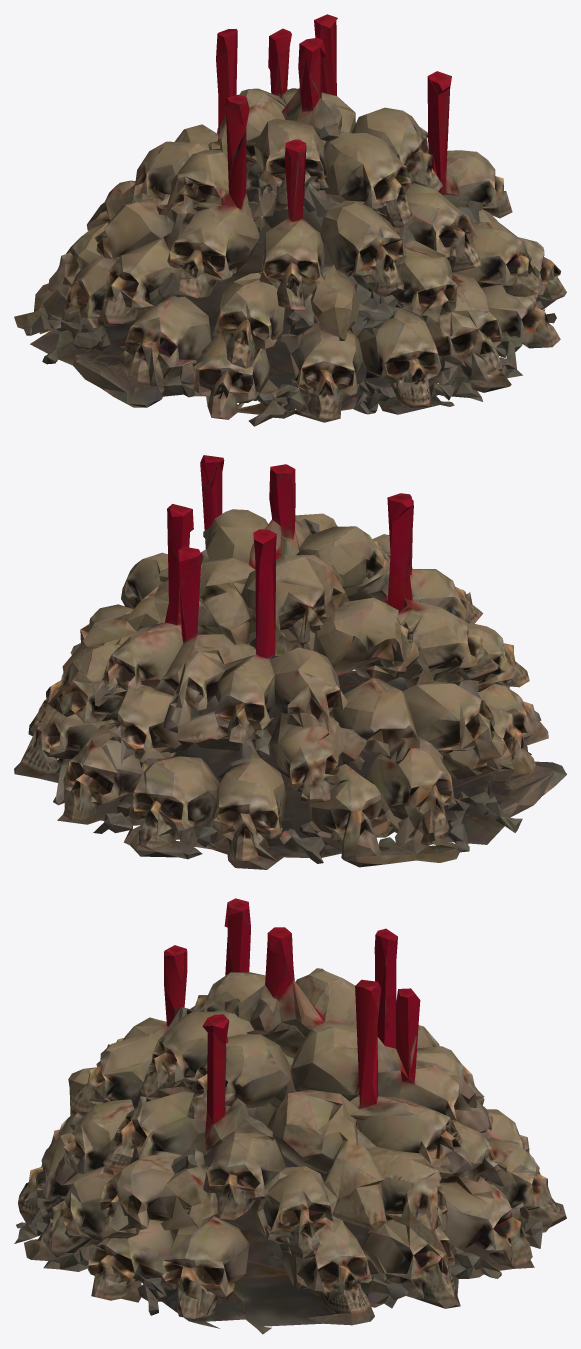
Rendered from mx_pr_skull_candles.glb.
3 views of the same model, one above another, from view 1: azimuth 30°, elevation 25°; view 2: azimuth 150°, elevation 25°; view 3: azimuth 270°, elevation 25° (orthographic). The views are drawn at different scales.
Size of the model in its own units: 1.89 by 1.06 by 1.82.
1 material, 1 textured.
